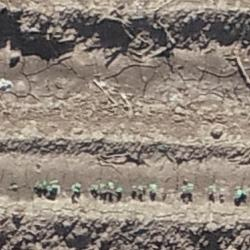cotton: (72, 184, 81, 192), (182, 188, 193, 193), (151, 184, 157, 191), (42, 182, 48, 189), (89, 185, 97, 190), (117, 186, 123, 192), (236, 190, 241, 197), (110, 182, 114, 189), (52, 184, 57, 188)
